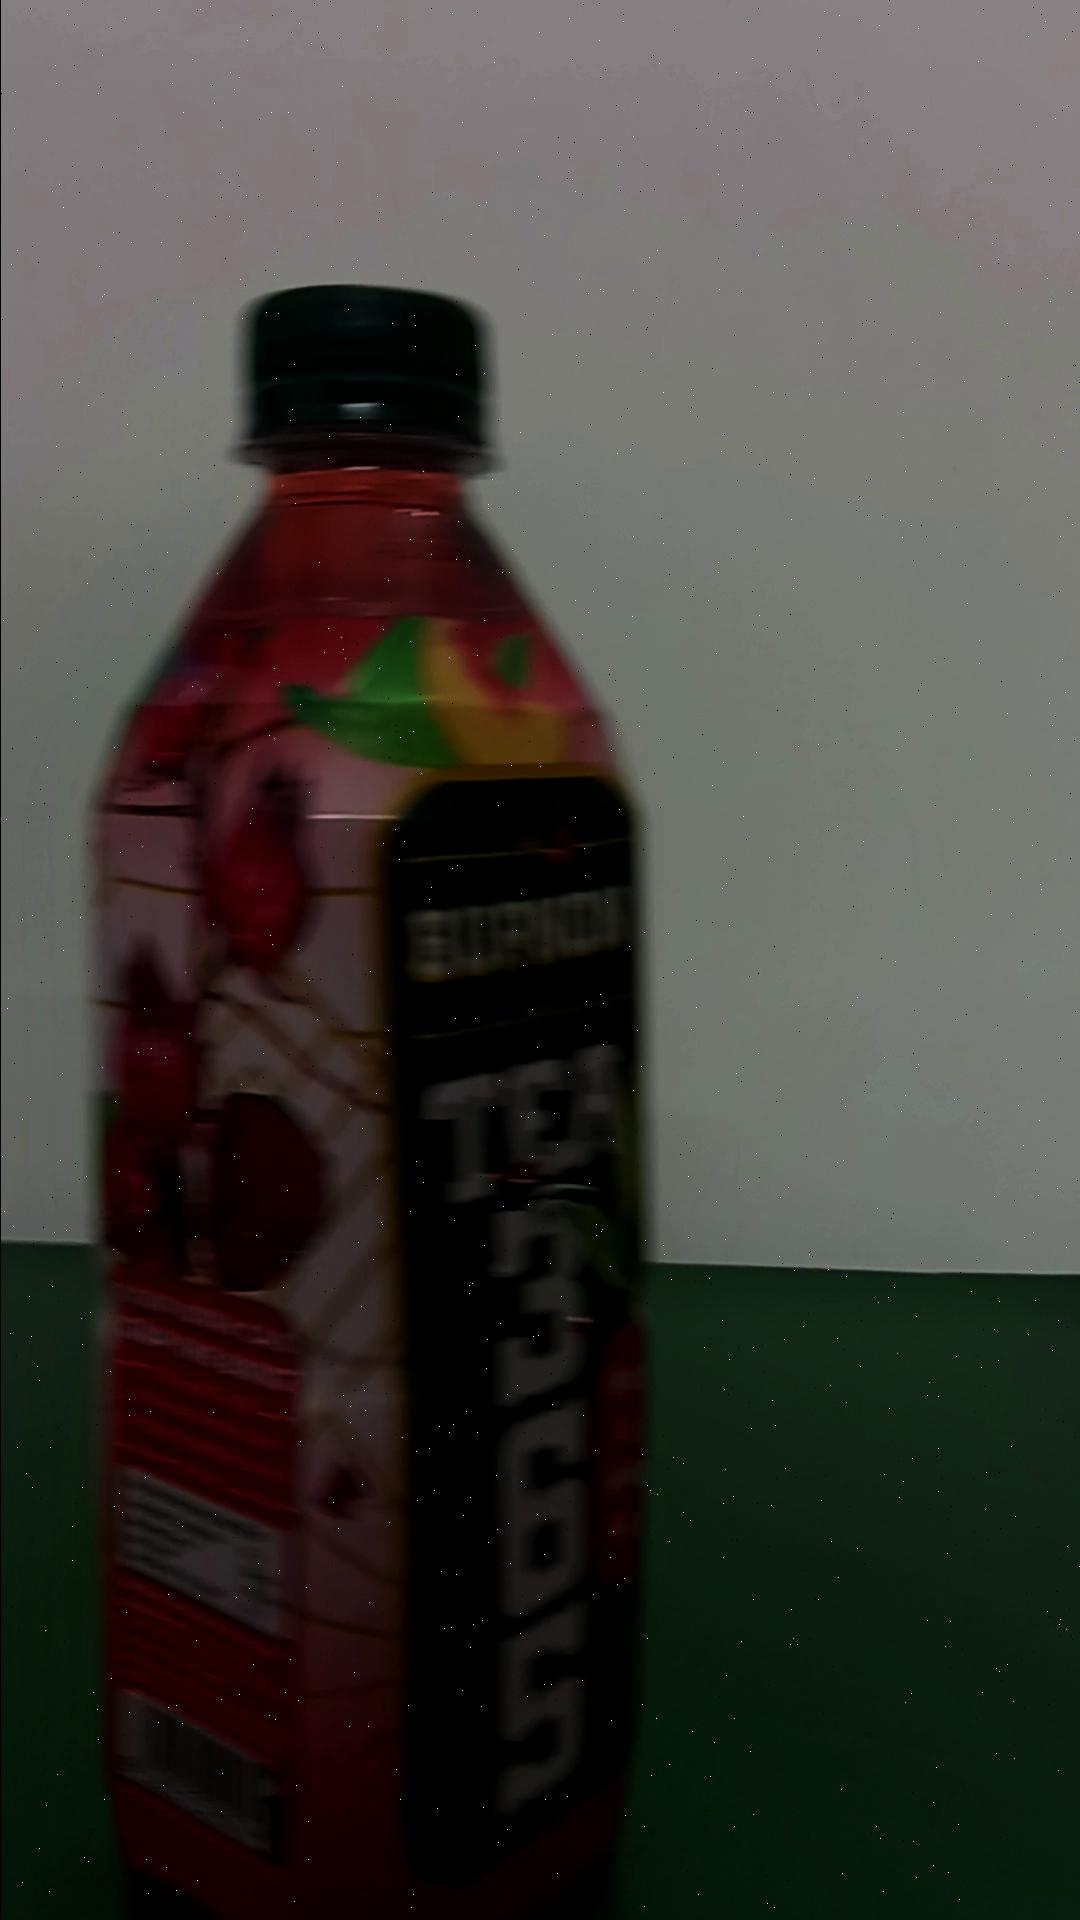loi rach va lap chai: (98, 282, 650, 1920)
